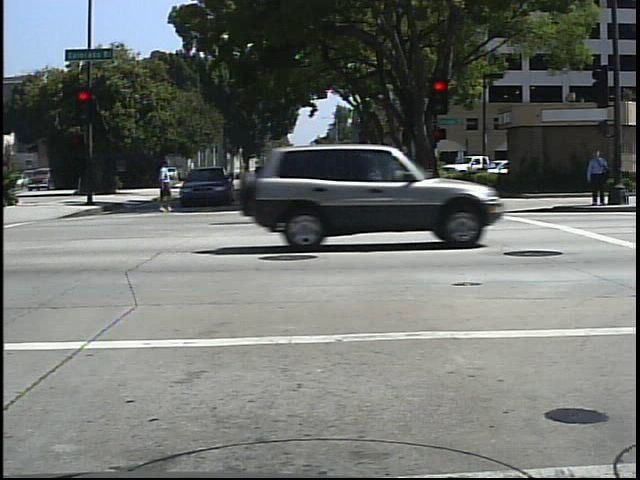person: (147, 155, 183, 219), (585, 143, 611, 209)
